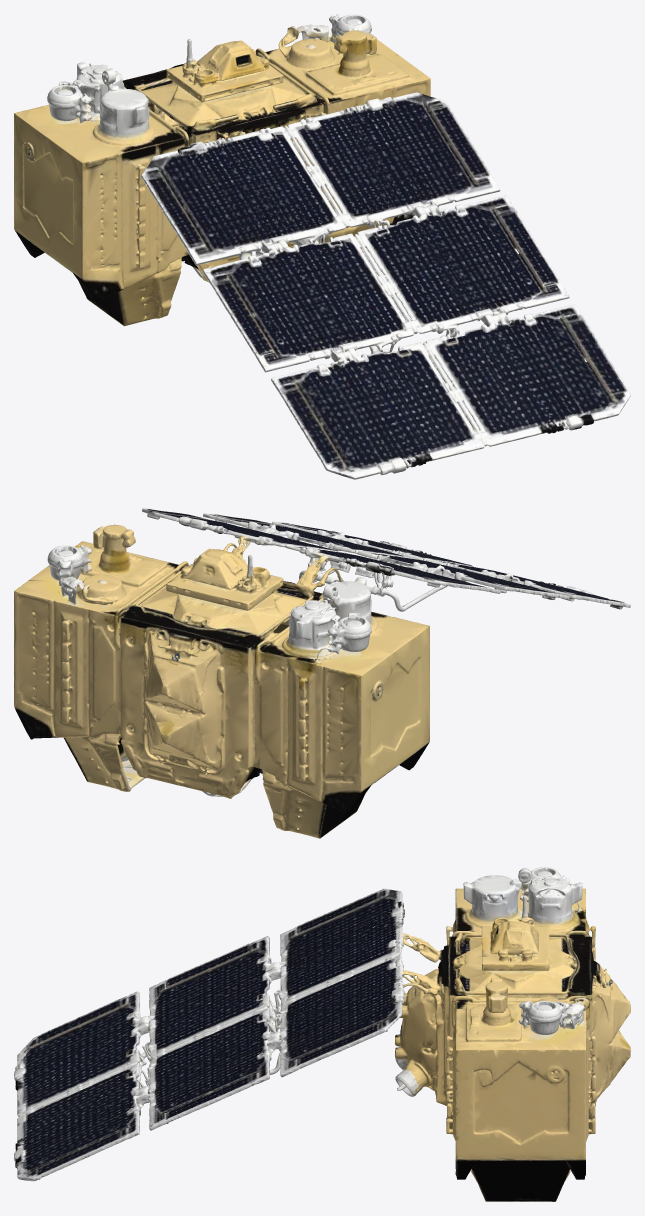
Rendered from sentinel2.glb.
3 views of the same model, one above another, from view 1: azimuth 30°, elevation 25°; view 2: azimuth 150°, elevation 25°; view 3: azimuth 270°, elevation 25° (orthographic). The views are drawn at different scales.
Bounding box in the file's own units: 1.18 × 0.8176 × 1.9.
1 material, 1 textured.
